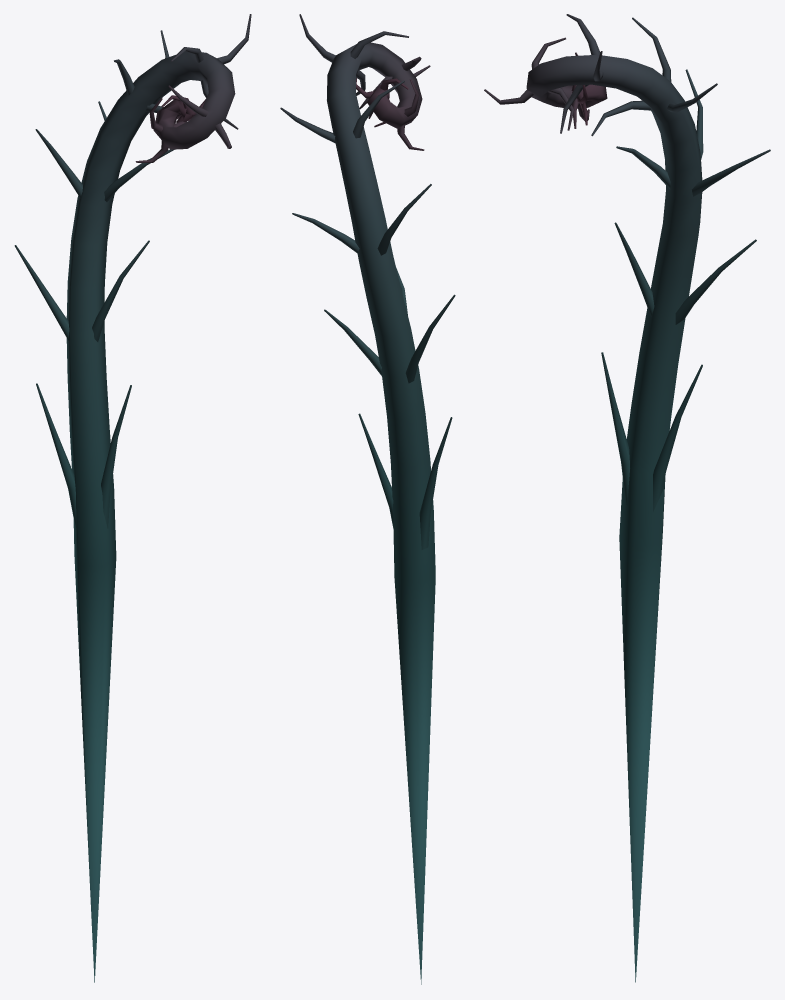
File: plants-bushes-twigs-thorny-tendril_v6.glb
3 renders of one model, left to right at view 1: azimuth 30°, elevation 25°; view 2: azimuth 150°, elevation 25°; view 3: azimuth 270°, elevation 25°, orthographic. The views are drawn at different scales.
Parts seen in each view (by area): view 1: Thorny Tendril_v6; view 2: Thorny Tendril_v6; view 3: Thorny Tendril_v6.
Part boxes in pixels (x1=…): Thorny Tendril_v6: x1=14, y1=14, x2=251, y2=982; Thorny Tendril_v6: x1=280, y1=14, x2=455, y2=984; Thorny Tendril_v6: x1=484, y1=14, x2=770, y2=982.
Bounding box in the file's own units: 0.1092 × 0.5 × 0.1291.
